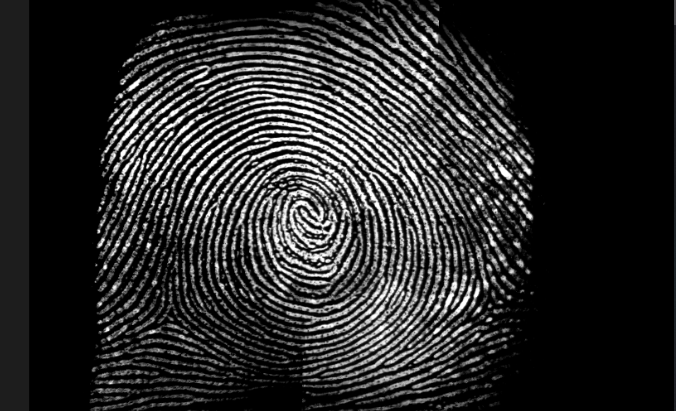nucelo: (289, 196, 322, 234)
verticilo: (470, 280, 508, 318), (157, 296, 183, 332)
